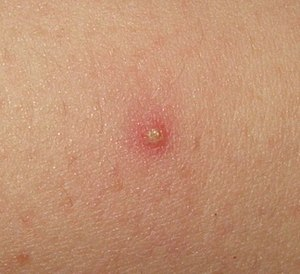Diseased: (65, 76, 212, 180)
